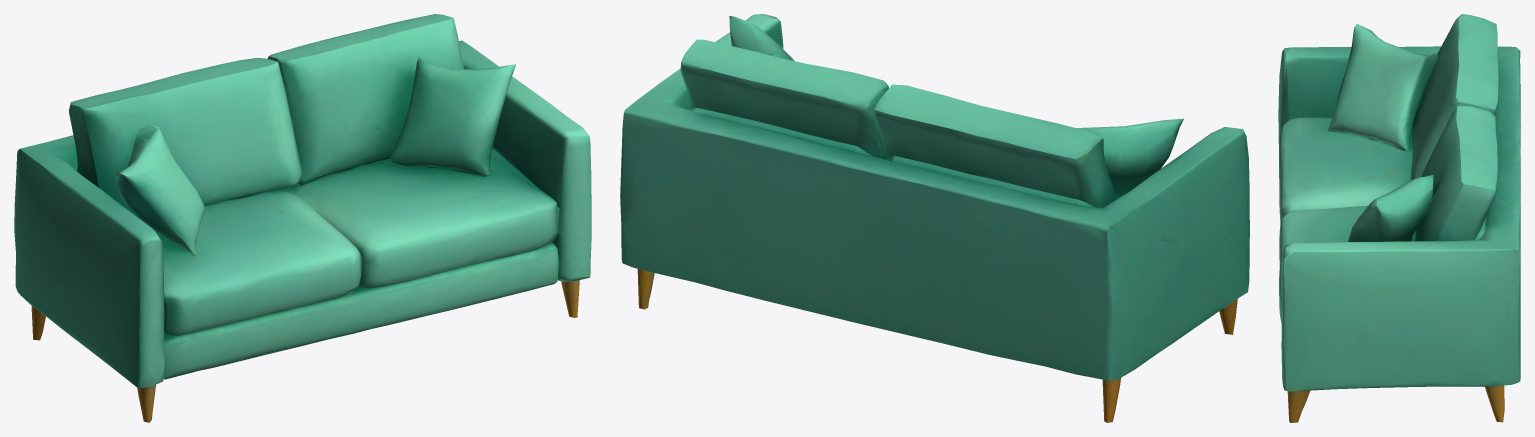
Rendered from sofa.glb.
The picture shows the model from 3 angles, left to right: view 1: azimuth 30°, elevation 25°; view 2: azimuth 150°, elevation 25°; view 3: azimuth 270°, elevation 25°; orthographic projection. The views are drawn at different scales.
Parts seen in each view (by area): view 1: model; view 2: model; view 3: model.
Part boxes in pixels (left/top/right/bottom): model: left=14, top=14, right=591, bottom=422; model: left=620, top=14, right=1249, bottom=422; model: left=1278, top=14, right=1520, bottom=422.
Bounding box in the file's own units: 1.89 × 0.9388 × 0.9125.
Materials: 1 (1 with a texture image).
